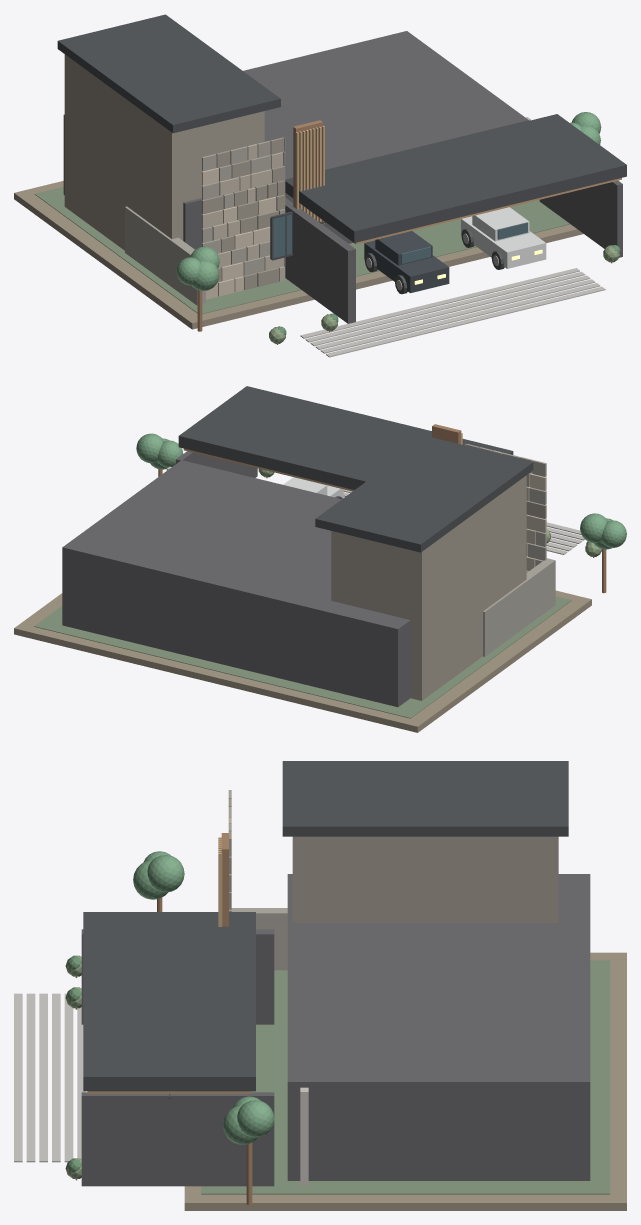
File: modelo-3d-aproximado.glb
The picture shows the model from 3 angles, top to bottom: view 1: azimuth 30°, elevation 25°; view 2: azimuth 150°, elevation 25°; view 3: azimuth 270°, elevation 25°; orthographic projection. The views are drawn at different scales.
Visible parts, largest first — view 1: black, coal, stone1, concrete, soil, stone4, grass, carblack, carwhite, stone2, stone3, foliage (+6 smaller); view 2: coal, black, stone1, soil, grass, stone4, foliage, concrete, wood, stone2, carwhite; view 3: coal, black, stone1, grass, soil, concrete, foliage, stone4, wood, warmgray.
Boxes of the visible parts, box(x1,y1,x2,y2) form: black: box(57, 14, 626, 260); coal: box(63, 31, 622, 323); stone1: box(64, 54, 285, 289); concrete: box(300, 268, 605, 357); soil: box(14, 181, 583, 329); stone4: box(125, 137, 285, 305); grass: box(34, 186, 570, 314); carblack: box(364, 231, 449, 293); carwhite: box(461, 207, 546, 268); stone2: box(202, 144, 285, 281); stone3: box(202, 168, 276, 299); foliage: box(176, 112, 601, 290); coal: box(62, 451, 410, 707); black: box(178, 386, 533, 552); stone1: box(331, 444, 546, 700); soil: box(14, 590, 591, 732); grass: box(34, 596, 571, 718); stone4: box(465, 444, 555, 656); foliage: box(136, 433, 626, 549); concrete: box(343, 489, 584, 554); wood: box(158, 424, 606, 593); stone2: box(492, 450, 546, 570); carwhite: box(283, 477, 343, 498); coal: box(81, 874, 590, 1186); black: box(83, 761, 568, 1099); stone1: box(228, 798, 558, 922); grass: box(201, 960, 610, 1194); soil: box(184, 952, 626, 1210); concrete: box(14, 993, 85, 1162); foliage: box(133, 851, 274, 1144); stone4: box(228, 790, 287, 970); wood: box(75, 833, 252, 1204); warmgray: box(300, 1087, 308, 1185).
Size of the model in its own units: 19.8 by 7.03 by 18.43.
